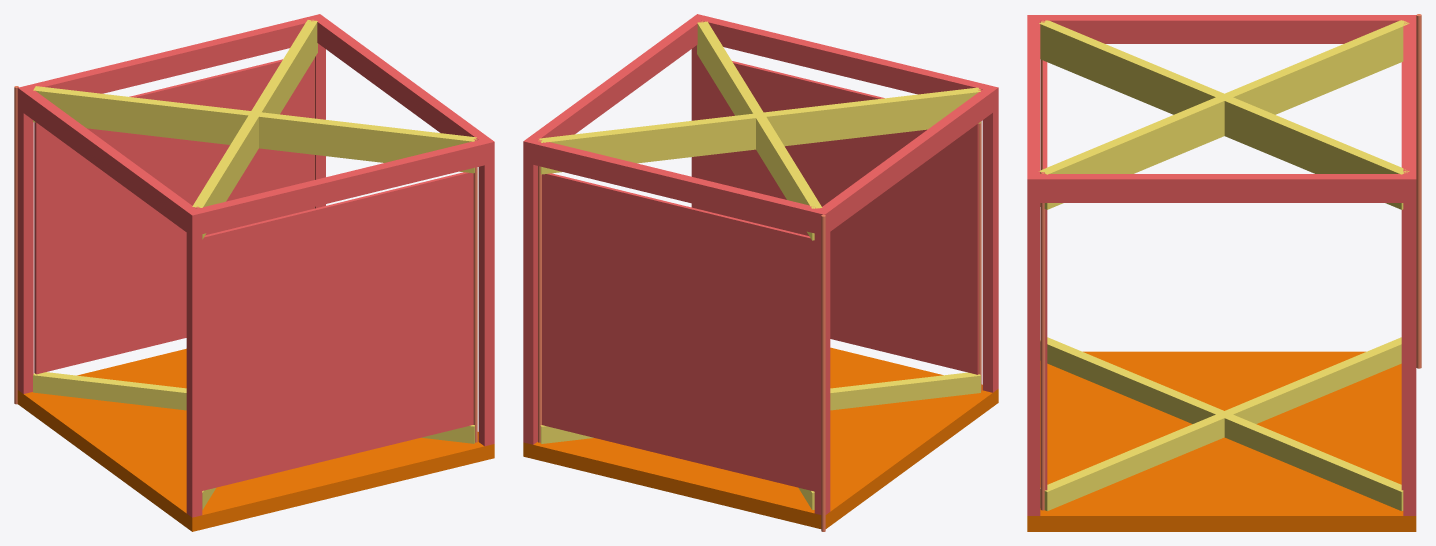
3 views of the same model, side by side, from view 1: azimuth 30°, elevation 25°; view 2: azimuth 150°, elevation 25°; view 3: azimuth 270°, elevation 25° (orthographic). The views are drawn at different scales.
Visible parts, largest first — view 1: 物件_9, 物件_10, 物件_11, 物件_5, 物件_18, 物件_17, 物件_16, 物件_14, 物件_6, 物件_12, 物件_15, 物件_19 (+4 smaller); view 2: 物件_10, 物件_9, 物件_11, 物件_6, 物件_17, 物件_18, 物件_16, 物件_5, 物件_14, 物件_19, 物件_13, 物件_15 (+5 smaller); view 3: 物件_11, 物件_6, 物件_5, 物件_19, 物件_7, 物件_8, 物件_16, 物件_12, 物件_13, 物件_18, 物件_17, 物件_1 (+3 smaller).
Boxes of the visible parts, box(x1,y1,x2,y2) form: 物件_9: box(202, 172, 473, 490); 物件_10: box(34, 58, 314, 374); 物件_11: box(17, 348, 494, 531); 物件_5: box(33, 86, 476, 173); 物件_18: box(186, 139, 494, 235); 物件_17: box(17, 14, 325, 112); 物件_16: box(17, 86, 202, 236); 物件_14: box(186, 209, 202, 517); 物件_6: box(192, 20, 317, 239); 物件_12: box(478, 138, 494, 446); 物件_15: box(17, 86, 33, 393); 物件_19: box(313, 14, 494, 164); 物件_10: box(542, 173, 814, 491); 物件_9: box(700, 60, 978, 374); 物件_11: box(523, 347, 998, 528); 物件_6: box(539, 87, 980, 174); 物件_17: box(523, 140, 827, 233); 物件_18: box(692, 15, 996, 95); 物件_16: box(814, 86, 993, 234); 物件_5: box(697, 21, 822, 240); 物件_14: box(982, 85, 998, 392); 物件_19: box(523, 15, 701, 158); 物件_13: box(523, 138, 538, 444); 物件_15: box(814, 208, 830, 514); 物件_11: box(1027, 351, 1416, 531); 物件_6: box(1039, 20, 1409, 209); 物件_5: box(1039, 20, 1409, 209); 物件_19: box(1027, 174, 1416, 202); 物件_7: box(1040, 337, 1401, 511); 物件_8: box(1040, 337, 1403, 511); 物件_16: box(1027, 15, 1416, 43); 物件_12: box(1027, 174, 1040, 515); 物件_13: box(1403, 174, 1416, 515); 物件_18: box(1027, 15, 1040, 202); 物件_17: box(1403, 16, 1416, 202); 物件_1: box(1416, 14, 1421, 368).
Size of the model in its own units: 48.32 by 48 by 48.63.
